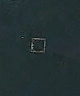square: (29, 33, 49, 55)
